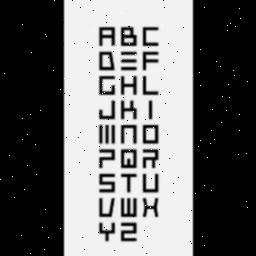h: (117, 75, 139, 97)
i: (142, 100, 156, 122)
s: (98, 171, 118, 195)
t: (118, 172, 138, 196)
w: (118, 192, 140, 222)
y: (96, 220, 118, 244)
